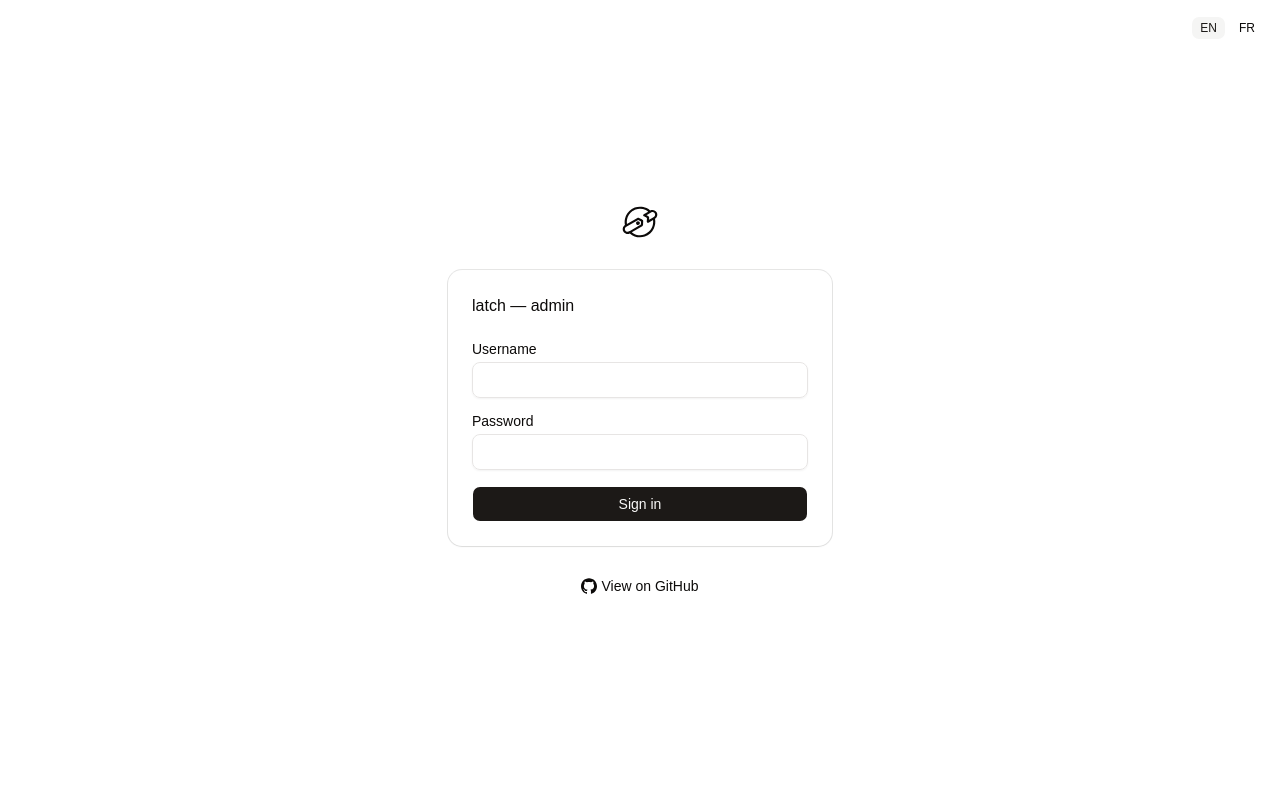
Test: LoginPage › navigates to / on successful login
Type "admin" into the field labelled "Username" at (640, 380), box [472,362,808,398]
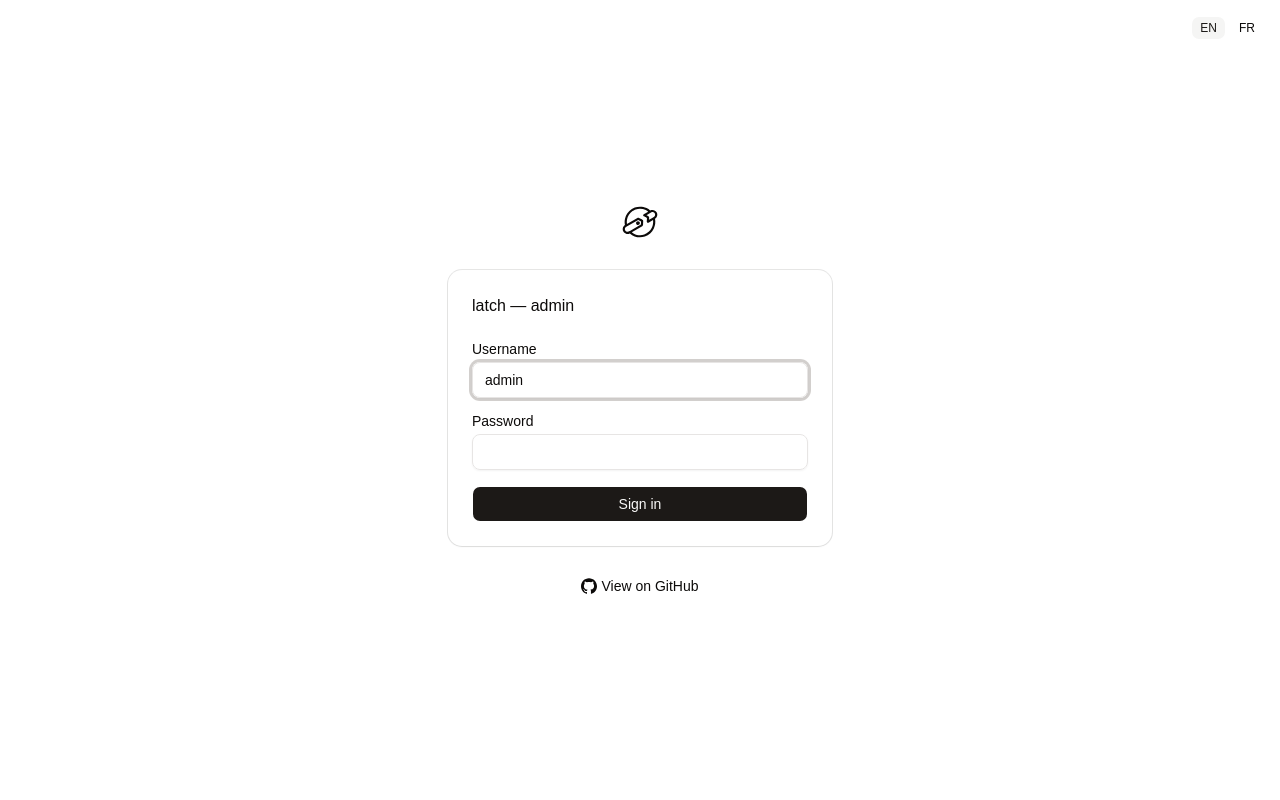
Type "secret" into the password field labelled "Password" at (640, 452), box [472,434,808,470]
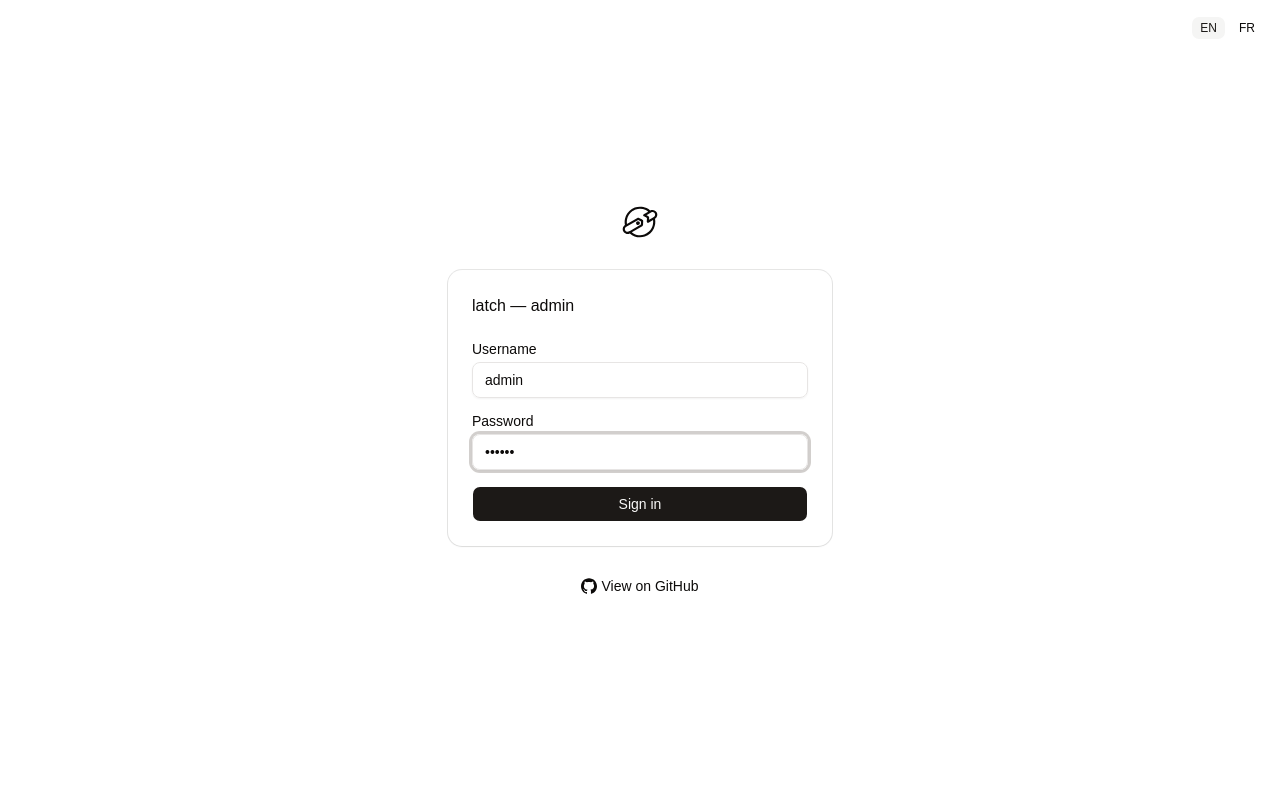
Click the button "Sign in" at (640, 504), box [472,486,808,522]
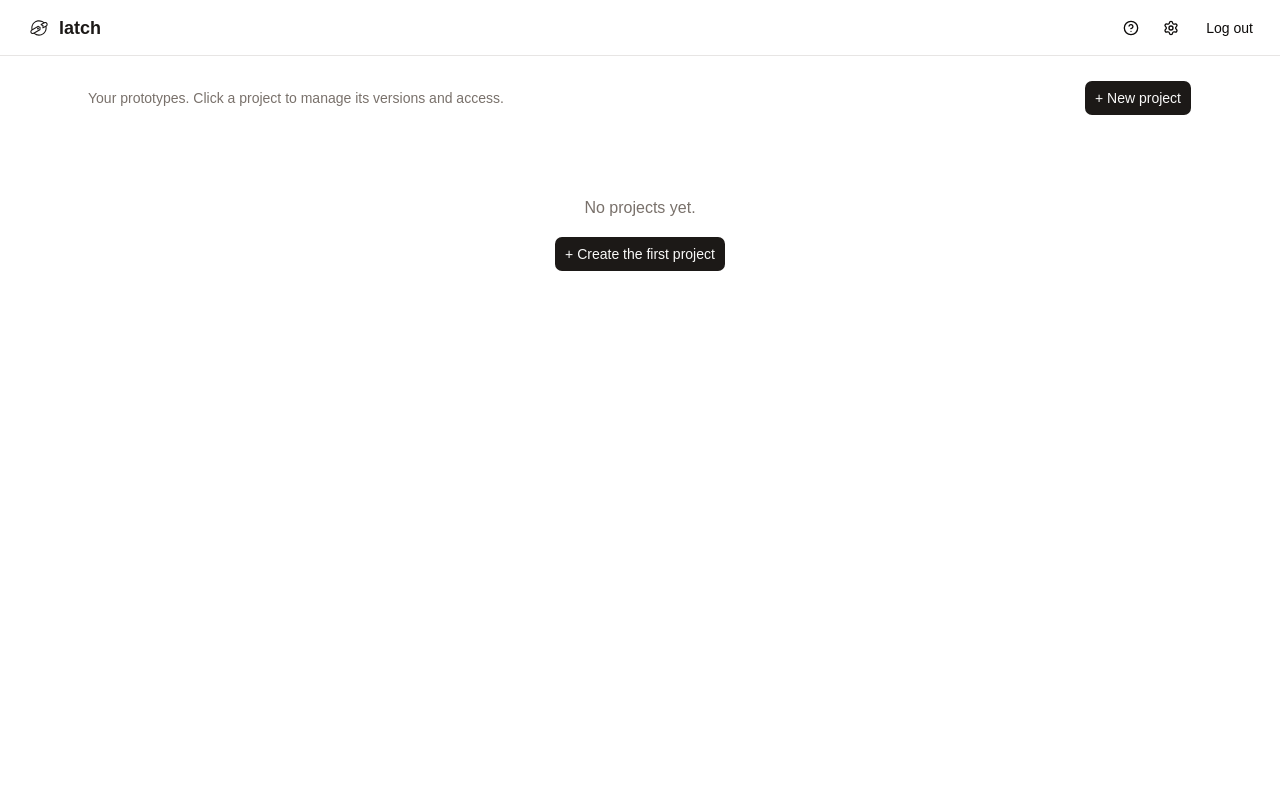
Check: the button "Sign in" is gone
